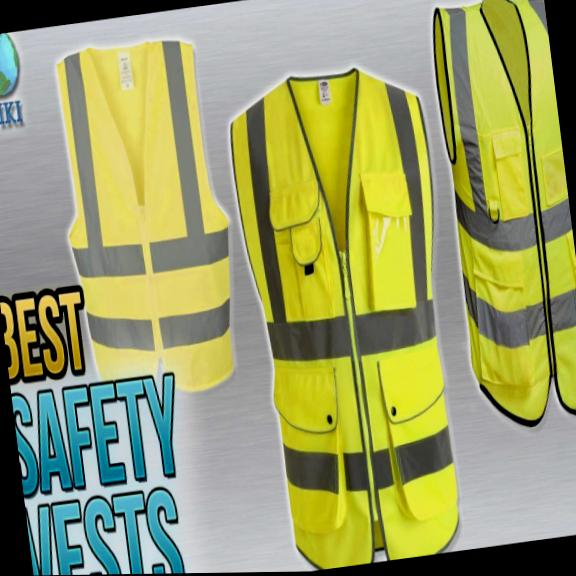safety_vest: (223, 59, 477, 573), (40, 33, 251, 408), (427, 0, 576, 438)
